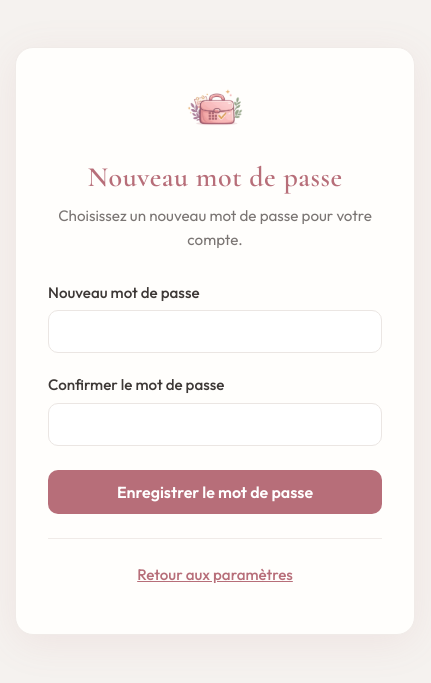
Test case: ResetPassword › validates password confirmation
Step 1. Type "123456" into the password field labelled "Nouveau mot de passe" → (215, 332), box [48,310,382,353]
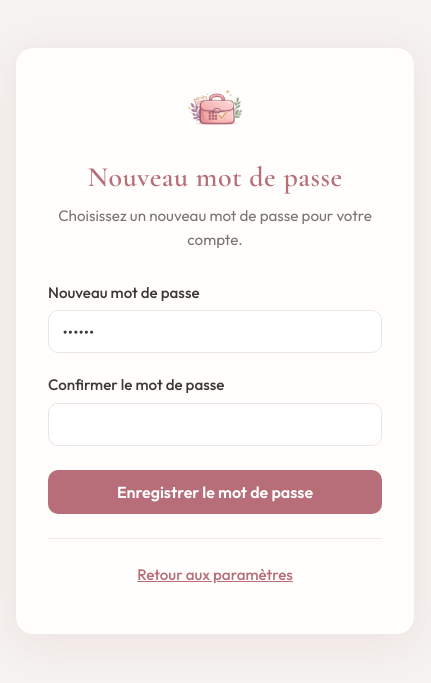
Step 2. Type "654321" into the password field labelled "Confirmer le mot de passe" → (215, 425), box [48,403,382,446]
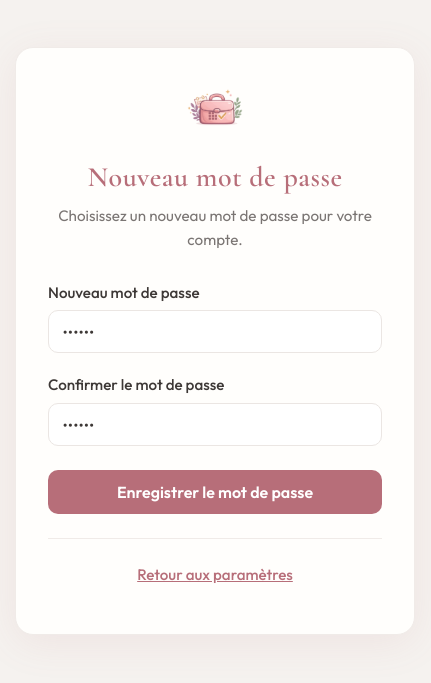
Step 3. Click the button "Enregistrer le mot de passe" → (215, 492), box [48,470,382,514]
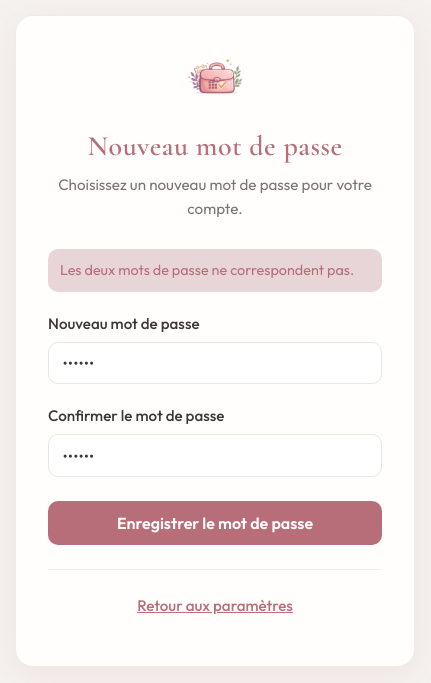
Expected: the message reads "Les deux mots de passe ne correspondent pas.", [60,261,354,279]
